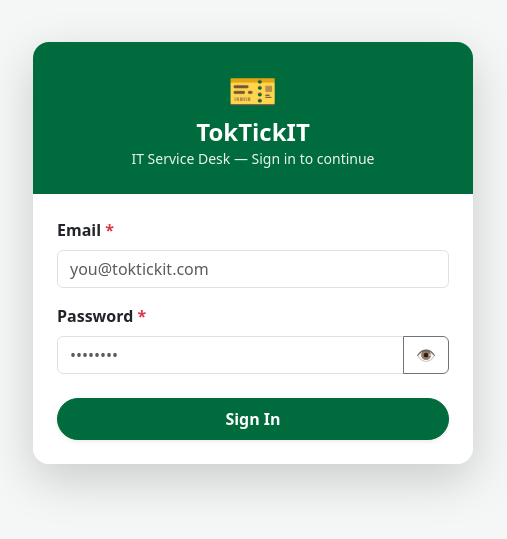
Scenario: Auth-01: Login Screen › Auth-01b: submitting with empty fields shows validation errors
Step 1. Click the button with test id "login-submit" → (253, 419), box [57, 398, 449, 440]
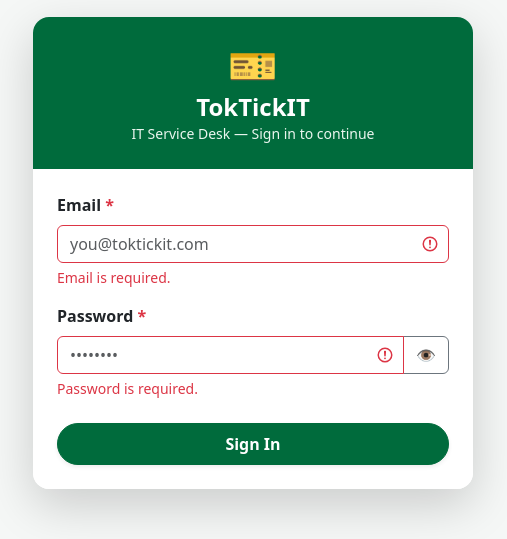
Result: the text "Email is required." is shown at [57, 268, 171, 287]
Result: the text "Password is required." is shown at [57, 379, 198, 398]
